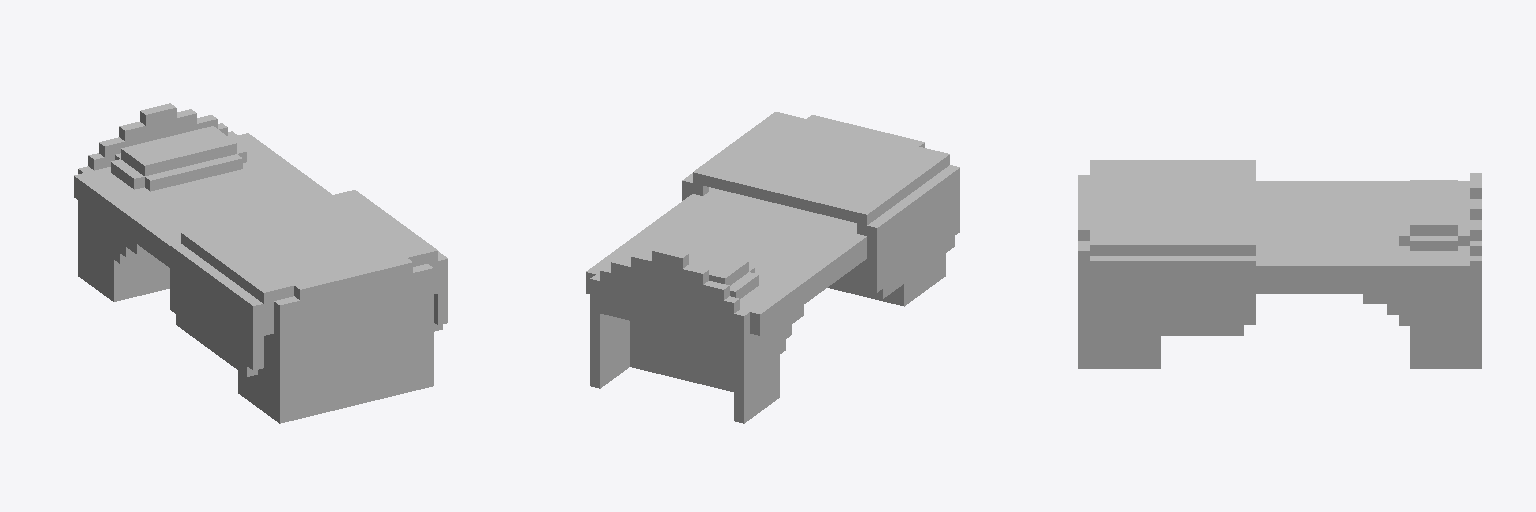
Rendered from ship-0.obj.
3 views of the same model, side by side, from view 1: azimuth 30°, elevation 25°; view 2: azimuth 150°, elevation 25°; view 3: azimuth 270°, elevation 25° (orthographic).
Visible parts, largest first — view 1: object 1; view 2: object 1; view 3: object 1.
Boxes of the visible parts, x1=… form: object 1: x1=74, y1=103, x2=447, y2=423; object 1: x1=586, y1=112, x2=959, y2=423; object 1: x1=1078, y1=160, x2=1481, y2=368.
Size of the model in its own units: 1.9 by 1.4 by 3.4.